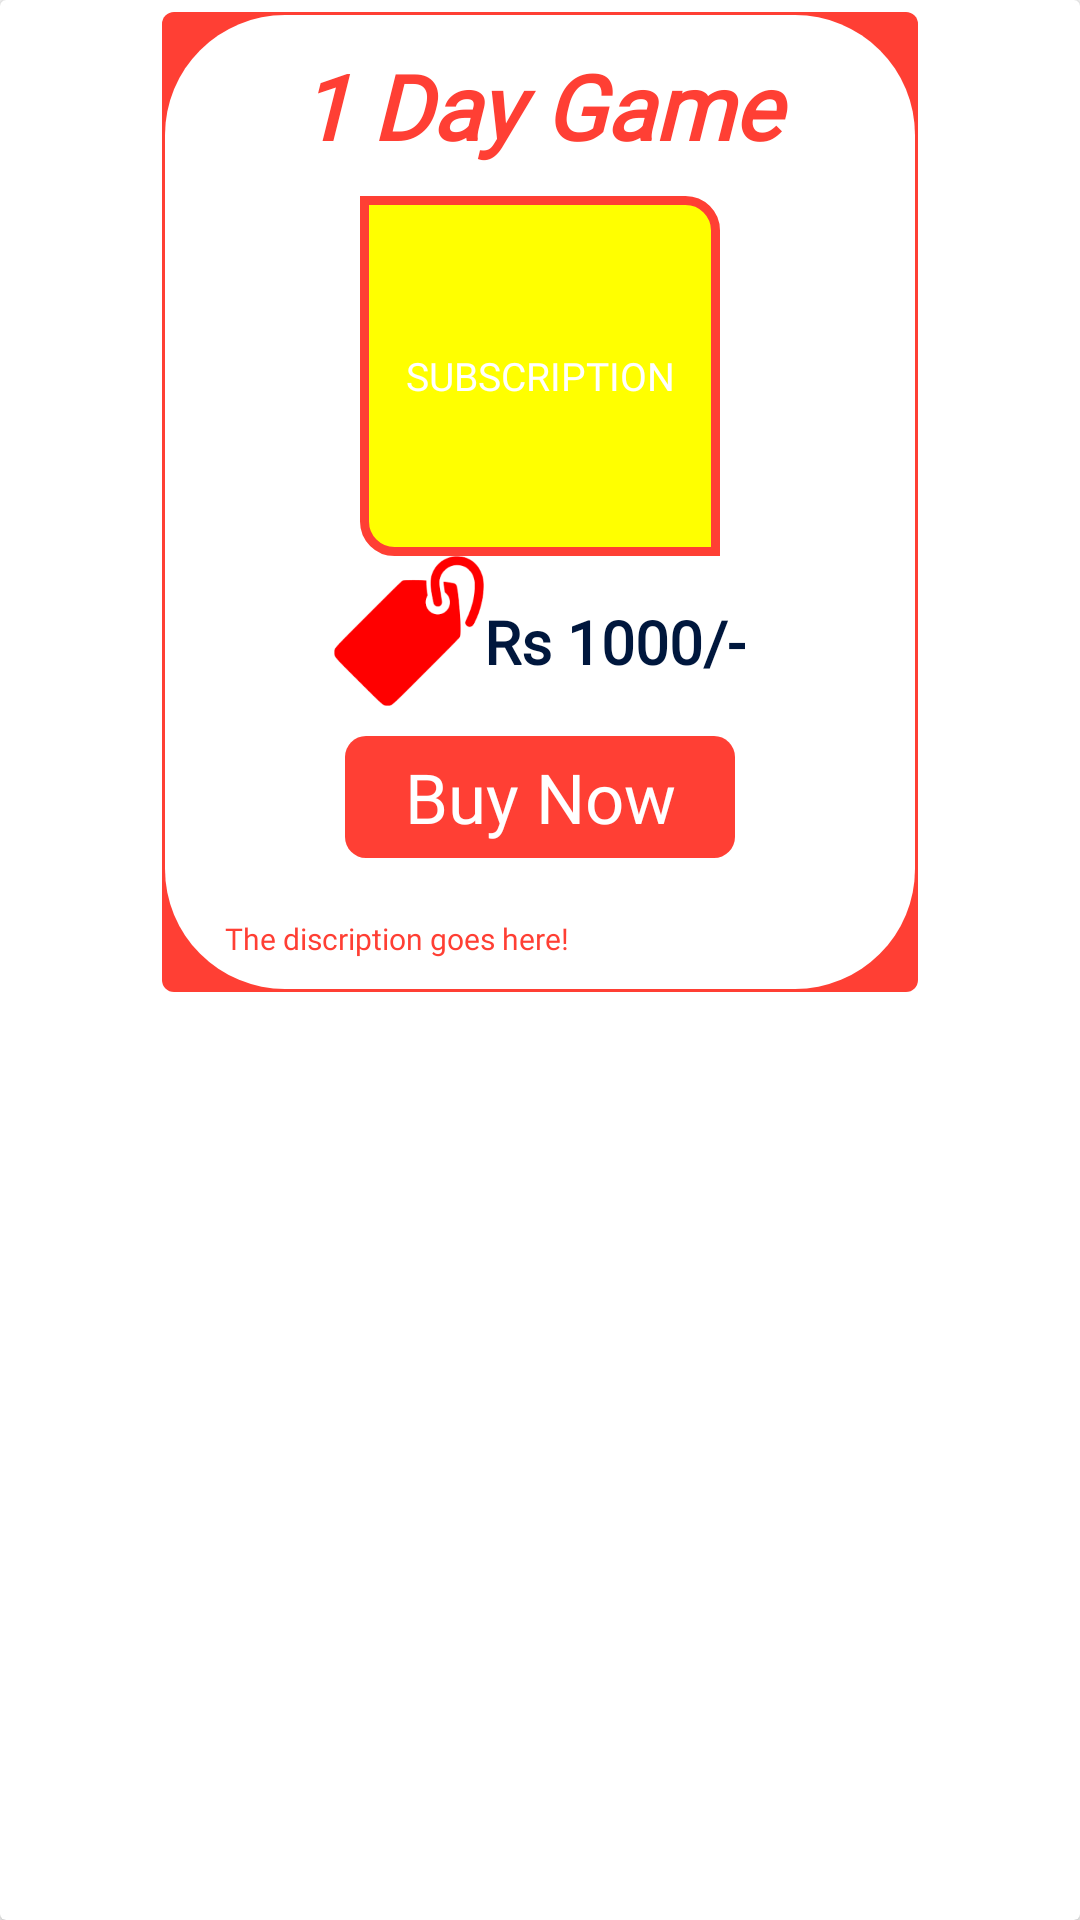

Named icons in this screenshot (1080x1920) and their bounding boxes, (x1, y1, x2, y2):
price tag: (334, 580, 461, 706)
